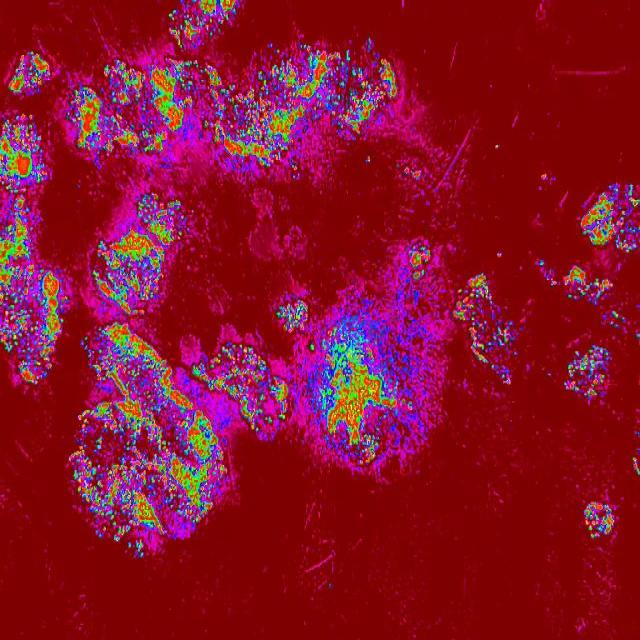fire: (68, 324, 223, 565), (199, 51, 398, 168), (306, 302, 430, 470), (0, 110, 72, 390), (73, 56, 198, 164), (93, 190, 190, 314), (452, 266, 523, 396), (223, 333, 290, 436), (579, 181, 640, 248), (166, 0, 242, 50), (562, 341, 613, 405), (534, 259, 612, 299), (7, 50, 53, 99), (581, 502, 617, 538), (406, 240, 436, 279), (276, 295, 308, 327), (606, 306, 624, 328), (400, 165, 422, 180), (629, 455, 640, 475), (288, 170, 302, 181), (540, 170, 551, 184), (298, 41, 314, 50), (365, 36, 376, 46), (266, 40, 276, 50), (495, 251, 505, 258), (493, 144, 502, 151), (634, 330, 640, 340)
